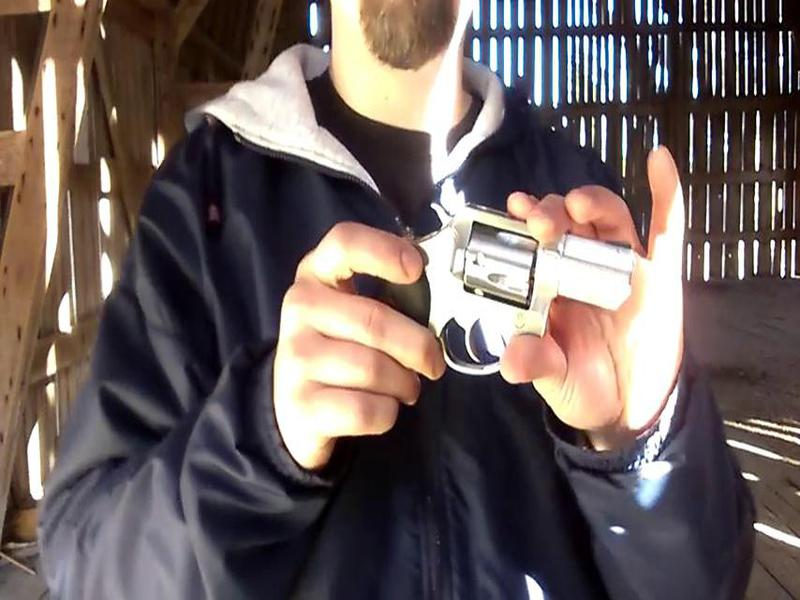Revolver: (331, 169, 646, 424)
